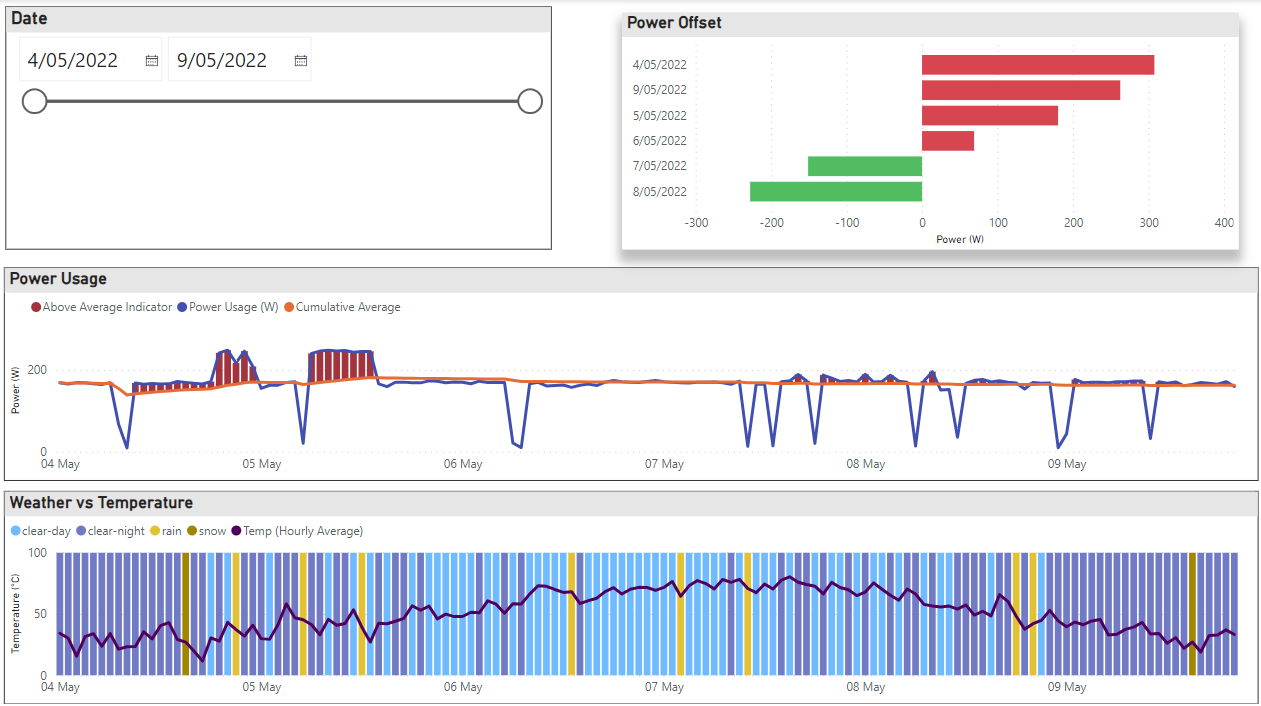

The page's visual inventory and layout, read from the dashboard file:
{"tool":"powerbi","page":{"name":"Overview","canvas":[1280,720],"ordinal":0},"visuals":[{"type":"lineStackedColumnComboChart","title":"Power Usage ","fields":{"Y2":["Electricity Analysis.W_Value","Electricity Analysis.Measure2"],"Y":["Electricity Analysis.CumulativeAverageColumn","Electricity Analysis.AboveAverageIndicatorOverview"],"Category":["Electricity Analysis.DateTimeEvery1Hour"]},"box":[6.1,271,1267.4,215],"z":0},{"type":"barChart","title":"Power Offset","fields":{"Category":["dimDate.Date"],"Y":["Electricity Analysis.OffsetCheck"]},"box":[629.9,13.6,622.3,239.2],"z":2000},{"type":"slicer","title":"Date","fields":{"Values":["dimDate.Date"]},"box":[7.6,7.6,551.2,245.3],"z":3000},{"type":"lineStackedColumnComboChart","title":"Weather vs Temperature","fields":{"Category":["Electricity Analysis.DateTimeEvery1Hour"],"Y2":["Max(Electricity Analysis.Temp_avg)"],"Y":["Electricity Analysis.Measure"],"Series":["Electricity Analysis.icon"]},"box":[6.1,496,1267.4,215],"z":4001}]}

Visuals, with their boxes in screenshot pixels (x1, y1, x2, y2), scaled from the page's 1280x720 canvas onto the 1261x706 screenshot:
"Power Usage " lineStackedColumnComboChart: [left=6, top=266, right=1255, bottom=477]
"Power Offset" barChart: [left=621, top=13, right=1234, bottom=248]
"Date" slicer: [left=7, top=7, right=551, bottom=248]
"Weather vs Temperature" lineStackedColumnComboChart: [left=6, top=486, right=1255, bottom=697]
